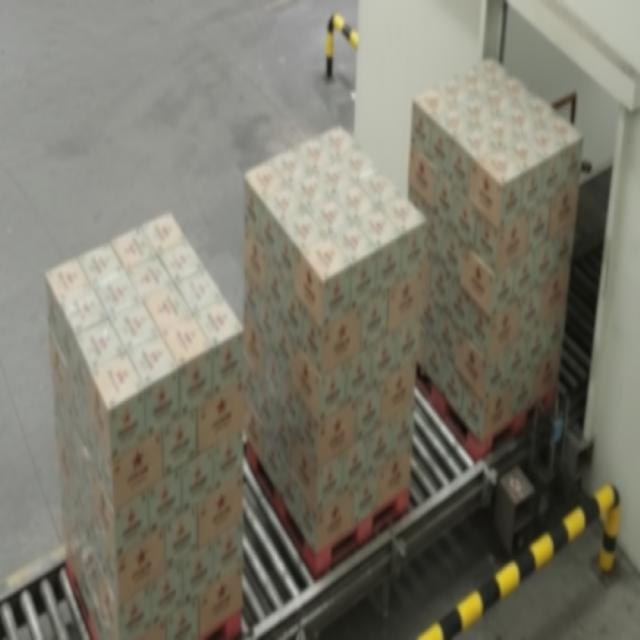pallet: (249, 110, 426, 594), (42, 218, 243, 640), (414, 56, 585, 465)
